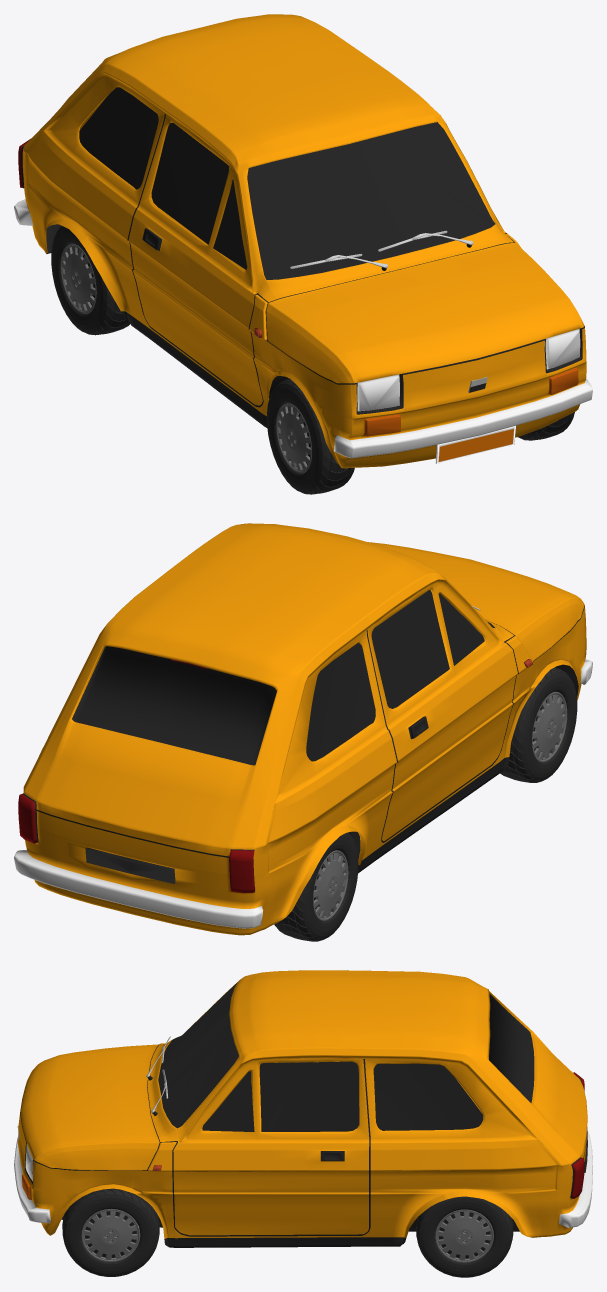
Rendered from Fiat Bis 126.fbx.
3 renders of one model, top to bottom at view 1: azimuth 30°, elevation 25°; view 2: azimuth 150°, elevation 25°; view 3: azimuth 270°, elevation 25°, orthographic. The views are drawn at different scales.
Visible parts, largest first — view 1: Body, wheel.001|wheel_right|Dupli|2, wheel.002|wheel_right|Dupli|2, wheel.002|rim_right|Dupli|3, wheel.001|rim_right|Dupli|3; view 2: Body, wheel.001|wheel_right|Dupli|2, wheel.002|wheel_right|Dupli|2, wheel.002|rim_right|Dupli|3, wheel.001|rim_right|Dupli|3; view 3: Body, wheel.001|wheel_left|Dupli|, wheel.002|wheel_left|Dupli|, wheel.002|rim_left|Dupli|1, wheel.001|rim_left|Dupli|1.
Part boxes in pixels (x1=…): Body: x1=14, y1=14, x2=592, y2=468; wheel.001|wheel_right|Dupli|2: x1=267, y1=378, x2=354, y2=494; wheel.002|wheel_right|Dupli|2: x1=51, y1=226, x2=130, y2=335; wheel.002|rim_right|Dupli|3: x1=60, y1=243, x2=96, y2=313; wheel.001|rim_right|Dupli|3: x1=276, y1=403, x2=311, y2=473; Body: x1=14, y1=523, x2=592, y2=935; wheel.001|wheel_right|Dupli|2: x1=500, y1=667, x2=577, y2=782; wheel.002|wheel_right|Dupli|2: x1=274, y1=832, x2=358, y2=941; wheel.002|rim_right|Dupli|3: x1=313, y1=850, x2=348, y2=920; wheel.001|rim_right|Dupli|3: x1=532, y1=691, x2=567, y2=762; Body: x1=14, y1=970, x2=592, y2=1247; wheel.001|wheel_left|Dupli|: x1=62, y1=1188, x2=159, y2=1276; wheel.002|wheel_left|Dupli|: x1=416, y1=1196, x2=513, y2=1277; wheel.002|rim_left|Dupli|1: x1=435, y1=1209, x2=493, y2=1262; wheel.001|rim_left|Dupli|1: x1=81, y1=1209, x2=140, y2=1261.
Size of the model in its own units: 1.33 by 1.29 by 2.98.
11 materials, 7 textured.
